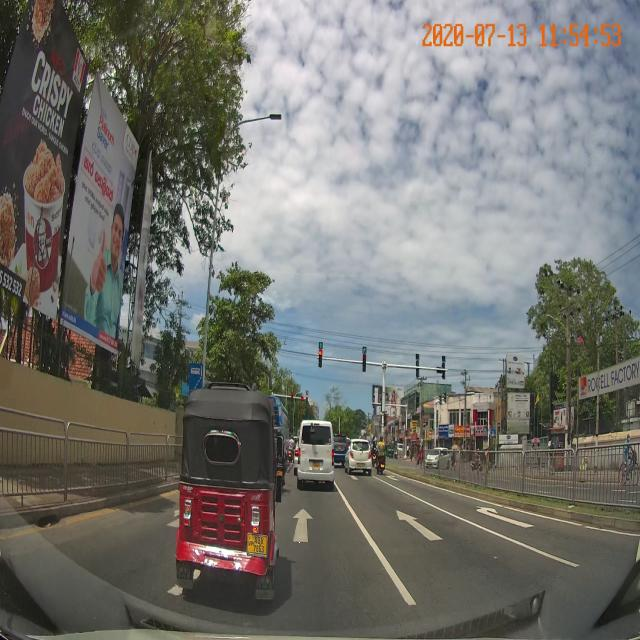forward: (279, 504, 374, 546)
